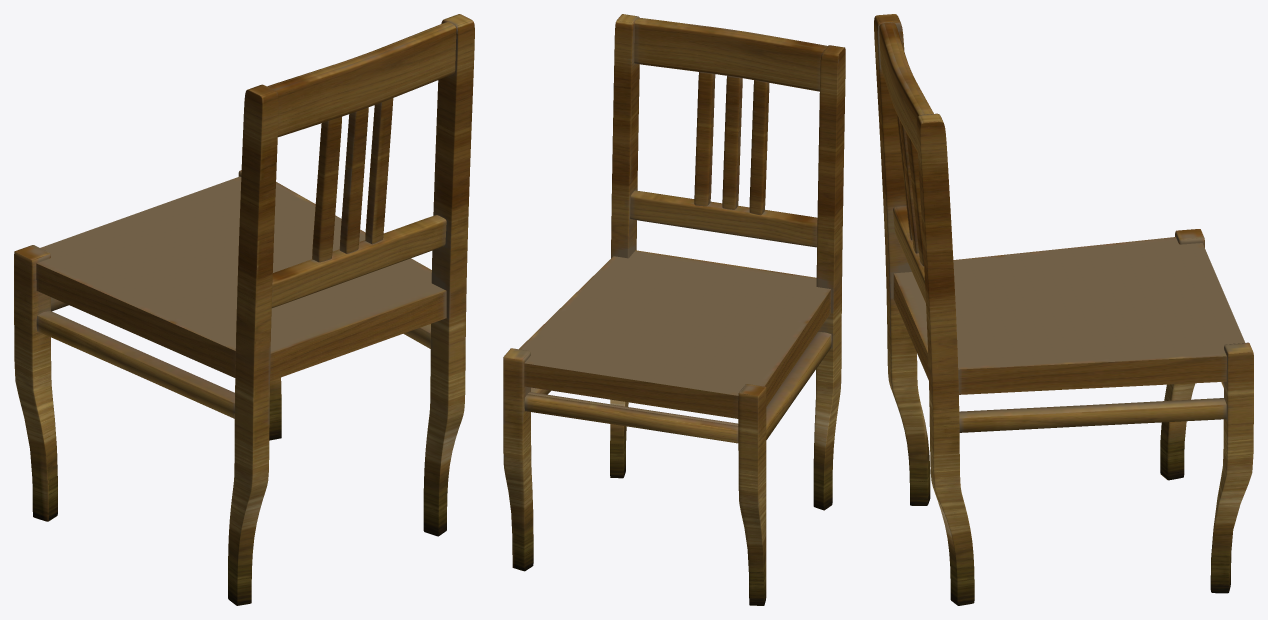
File: office_chair_seat.glb
3 views of the same model, side by side, from view 1: azimuth 30°, elevation 25°; view 2: azimuth 150°, elevation 25°; view 3: azimuth 270°, elevation 25° (orthographic). The views are drawn at different scales.
Visible parts, largest first — view 1: OfficeChairSeatMesh; view 2: OfficeChairSeatMesh; view 3: OfficeChairSeatMesh.
Boxes of the visible parts, left/top/right/bottom form: OfficeChairSeatMesh: left=14, top=14, right=474, bottom=605; OfficeChairSeatMesh: left=503, top=14, right=845, bottom=605; OfficeChairSeatMesh: left=874, top=14, right=1253, bottom=605.
Size of the model in its own units: 0.4976 by 0.8019 by 0.5672.
Materials: 1 (1 with a texture image).
